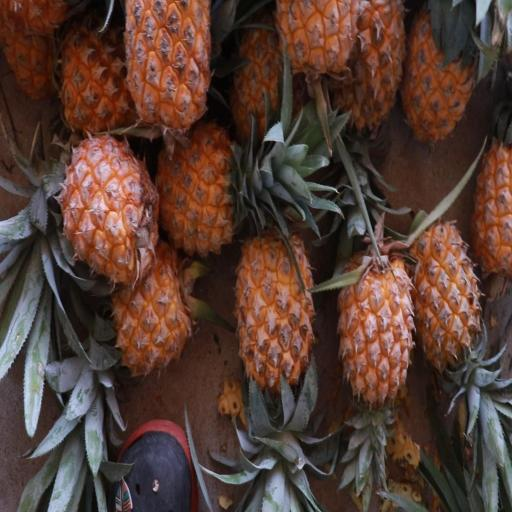Pineapple - v8 v1: (230, 220, 317, 432), (148, 112, 272, 258), (55, 125, 165, 289), (333, 239, 418, 422), (106, 228, 199, 383), (404, 217, 482, 396), (119, 0, 212, 139), (399, 0, 482, 148), (468, 123, 512, 288)
